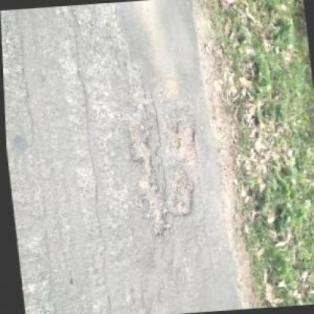Hueco: (120, 100, 208, 240)
